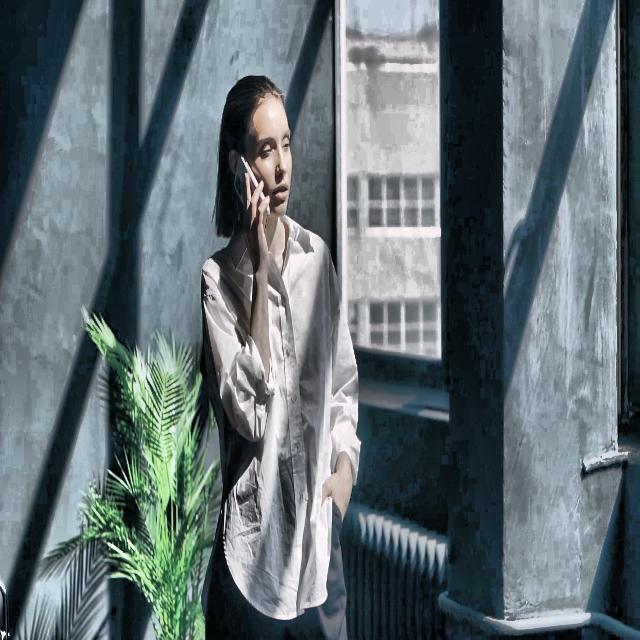Phone: (233, 154, 270, 238)
